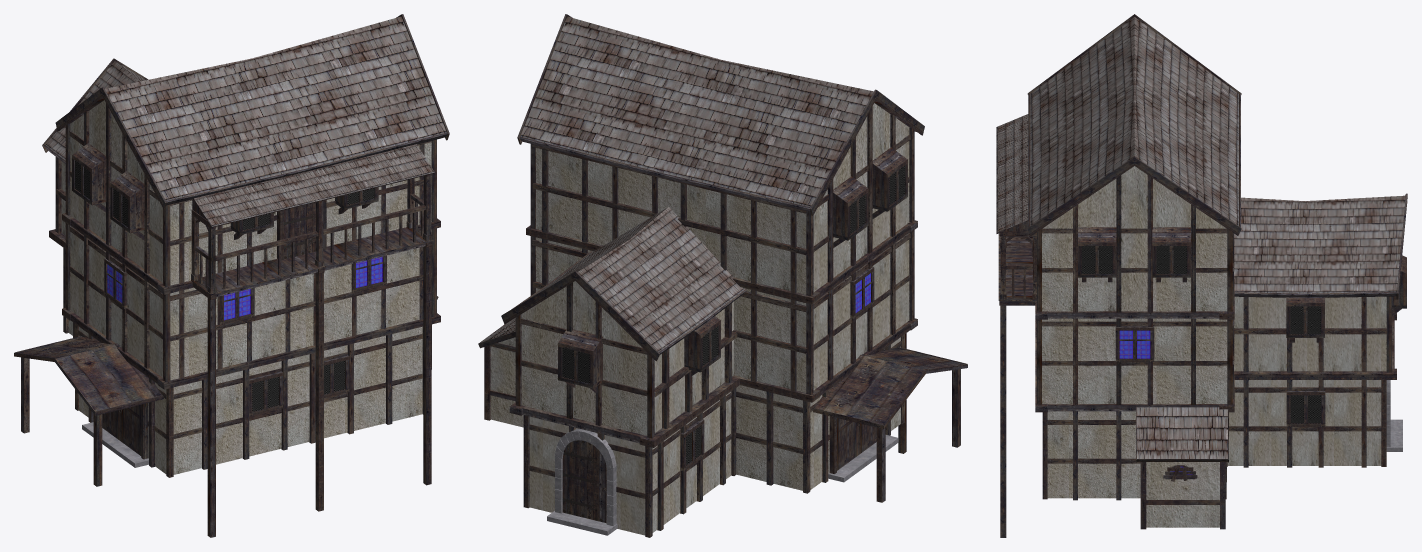
File: thouse22.dae
3 renders of one model, left to right at view 1: azimuth 30°, elevation 25°; view 2: azimuth 150°, elevation 25°; view 3: azimuth 270°, elevation 25°, orthographic. The views are drawn at different scales.
Visible parts, largest first — view 1: House2_Roof, House2_Level2, House2_Level1, House2_Level3, House2_Level2_Beams, Balcony1Roof, House2_Level1_Beams, Balcony1, Balcony1Stilts, House2_Level3_Beams, Roof1Outer, Balcony1Handles (+21 smaller); view 2: House2_Roof, House2_Level3, House5_Roof, House5_Level2, House2_Level2, House2_Level3_Beams, House5_Level1, House2_Level2_Beams, House2_Level1, House5_Level2_Beams, Roof1Outer, House5_Level1_Beams (+22 smaller); view 3: House2_Roof, House5_Roof, House2_Level3, House2_Level2, House5_Level1, House5_Level2, House2_Level1, BuildingExtensions4Roof, House2_Level3_Beams, House2_Level2_Beams, BuildingExtensions4, House2_Roof_Frame (+22 smaller).
Part boxes in pixels (<box>): House2_Roof: <box>105,16,446,200</box>; House2_Level2: <box>70,226,431,380</box>; House2_Level1: <box>79,326,422,474</box>; House2_Level3: <box>70,100,431,285</box>; House2_Level2_Beams: <box>65,223,436,381</box>; Balcony1Roof: <box>194,144,434,226</box>; House2_Level1_Beams: <box>75,324,423,477</box>; Balcony1: <box>191,172,434,295</box>; Balcony1Stilts: <box>207,246,431,537</box>; House2_Level3_Beams: <box>65,103,436,286</box>; Roof1Outer: <box>17,337,161,411</box>; Balcony1Handles: <box>195,193,425,288</box>; House2_Roof: <box>520,16,873,207</box>; House2_Level3: <box>536,103,909,294</box>; House5_Roof: <box>528,207,744,351</box>; House5_Level2: <box>521,281,733,435</box>; House2_Level2: <box>536,233,909,392</box>; House2_Level3_Beams: <box>530,106,914,296</box>; House5_Level1: <box>529,392,731,535</box>; House2_Level2_Beams: <box>530,230,914,394</box>; House2_Level1: <box>736,337,900,490</box>; House5_Level2_Beams: <box>515,282,737,438</box>; Roof1Outer: <box>815,348,965,424</box>; House5_Level1_Beams: <box>523,388,736,537</box>; House2_Roof: <box>1030,17,1238,225</box>; House5_Roof: <box>1234,195,1405,293</box>; House2_Level3: <box>1042,166,1227,311</box>; House2_Level2: <box>1042,318,1227,403</box>; House5_Level1: <box>1227,380,1381,465</box>; House5_Level2: <box>1234,296,1386,371</box>; House2_Level1: <box>1047,411,1140,498</box>; BuildingExtensions4Roof: <box>1136,407,1227,458</box>; House2_Level3_Beams: <box>1037,175,1234,312</box>; House2_Level2_Beams: <box>1037,318,1234,404</box>; BuildingExtensions4: <box>1146,462,1219,527</box>; House2_Roof_Frame: <box>1027,14,1241,235</box>.
Bounding box in the file's own units: 11.21 × 10.65 × 11.42.
31 materials, 31 textured.
